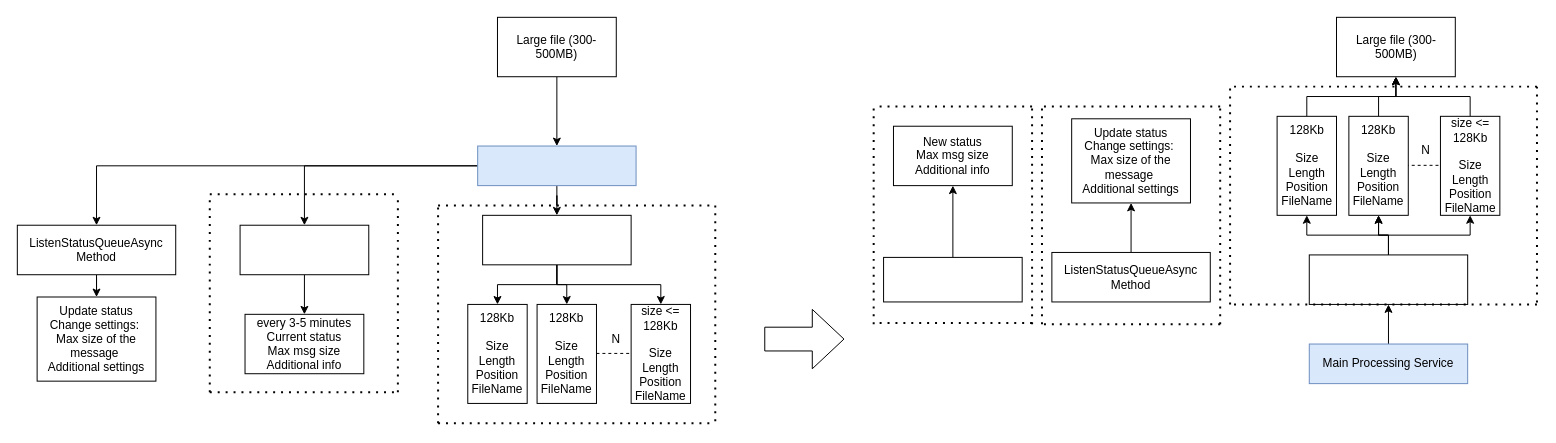
This 1556x443 diagram has some shape labels left out. Each missing label, with the box of its shape:
Data Capture Service: (477, 145, 636, 186)
FormMessageAsync Method: (482, 214, 631, 265)
ListenQueueAsync Method: (1308, 254, 1468, 304)
SendNewSettings Method: (883, 256, 1022, 302)
SendServiceInfoAsync Method: (239, 224, 369, 275)
